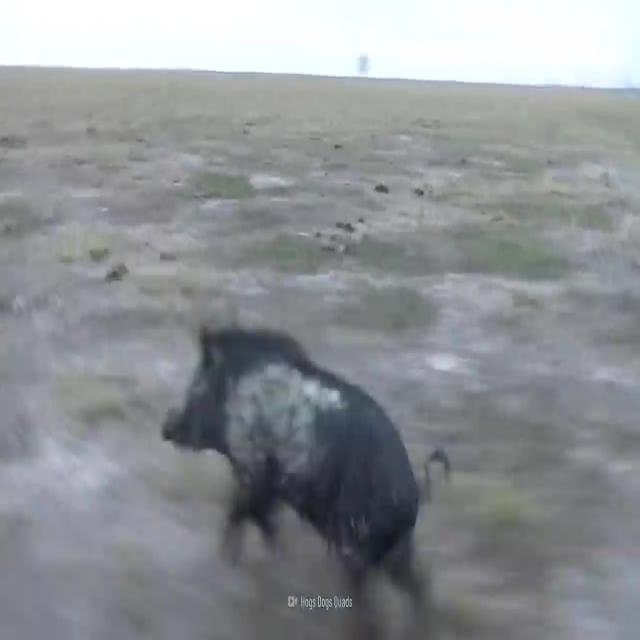pig: (167, 288, 433, 640)
